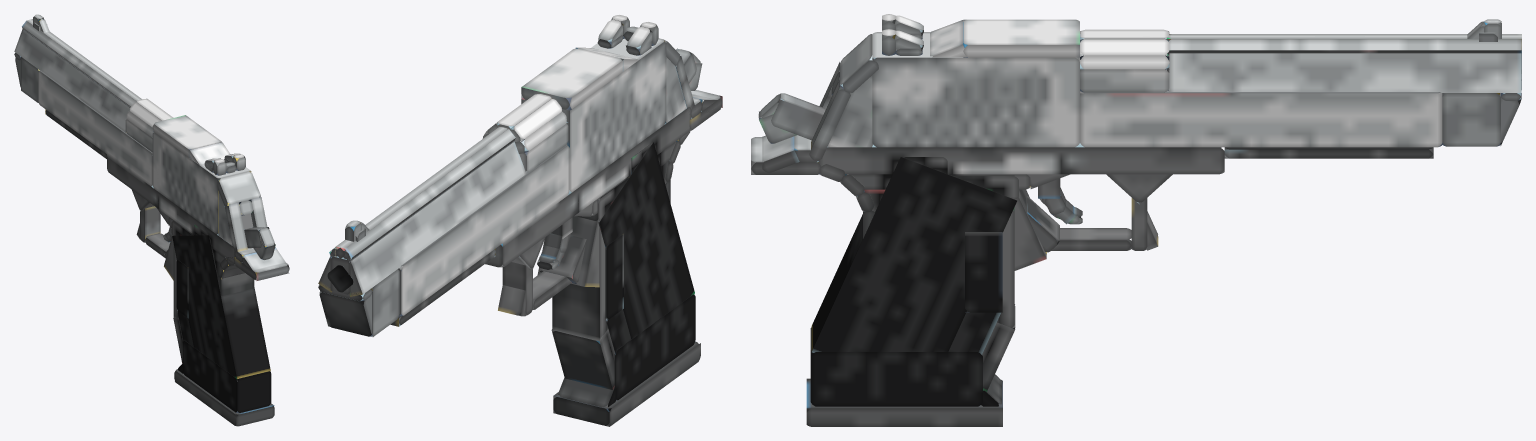
3 views of the same model, side by side, from view 1: azimuth 30°, elevation 25°; view 2: azimuth 150°, elevation 25°; view 3: azimuth 270°, elevation 25° (orthographic). The views are drawn at different scales.
Parts seen in each view (by area): view 1: cube_48, cube_0, cube_7, cube_2, cube_50, cube_30, cube_19, cube_65, cube_11, cube_21, cube_22, cube_12 (+19 smaller); view 2: cube_48, cube_0, cube_7, cube_2, cube_30, cube_50, cube_19, cube_55, cube_65, cube_57, cube_11, cube_5 (+25 smaller); view 3: cube_48, cube_0, cube_7, cube_1, cube_30, cube_50, cube_19, cube_65, cube_10, cube_4, cube_51, cube_71 (+23 smaller).
Boxes of the visible parts, box(x1,y1,x2,y2) form: cube_48: box(172, 235, 270, 379); cube_0: box(38, 70, 152, 186); cube_7: box(152, 131, 251, 234); cube_2: box(14, 29, 129, 132); cube_50: box(183, 340, 271, 412); cube_30: box(107, 154, 235, 263); cube_19: box(152, 115, 221, 157); cube_65: box(174, 369, 274, 426); cube_11: box(22, 20, 136, 106); cube_21: box(218, 171, 260, 206); cube_22: box(224, 202, 247, 256); cube_12: box(26, 19, 141, 100); cube_48: box(598, 142, 694, 339); cube_0: box(371, 144, 569, 316); cube_7: box(521, 38, 666, 192); cube_2: box(349, 141, 526, 296); cube_30: box(485, 107, 691, 267); cube_50: box(614, 294, 695, 400); cube_19: box(521, 48, 623, 110); cube_55: box(552, 160, 669, 341); cube_65: box(553, 341, 700, 426); cube_57: box(551, 329, 615, 389); cube_11: box(343, 129, 515, 258); cube_5: box(319, 289, 372, 335); cube_48: box(811, 157, 1016, 352); cube_0: box(1080, 69, 1442, 147); cube_7: box(872, 32, 1079, 147); cube_1: box(1169, 53, 1521, 92); cube_30: box(818, 143, 1224, 174); cube_50: box(810, 327, 982, 406); cube_19: box(963, 19, 1079, 57); cube_65: box(806, 378, 1002, 426); cube_10: box(1167, 39, 1521, 50); cube_4: box(1442, 93, 1500, 146); cube_51: box(965, 232, 1002, 312); cube_71: box(1224, 147, 1433, 158).
Size of the model in its own units: 11.07 by 68.03 by 122.
